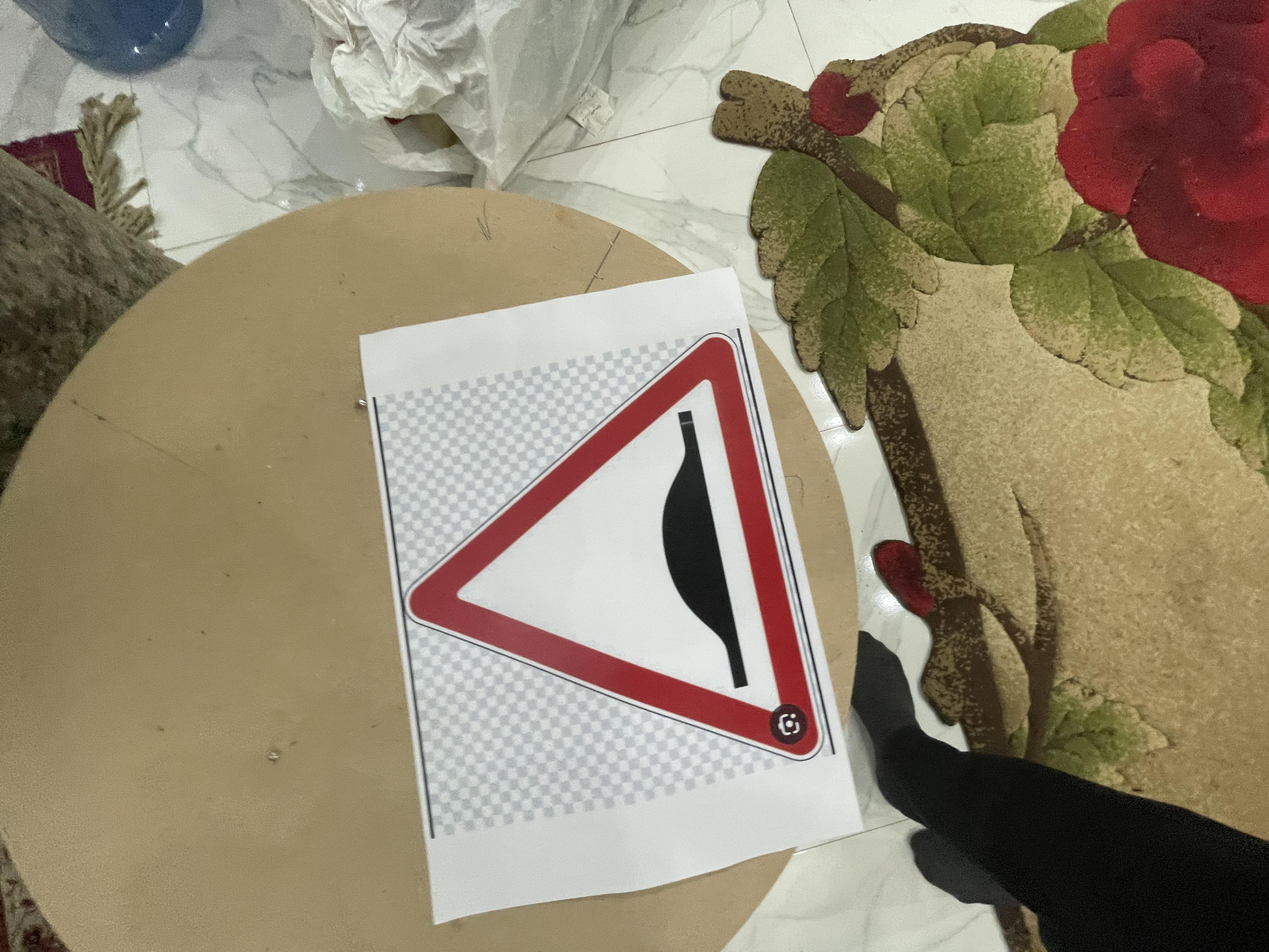Hump: (241, 310, 832, 625)
